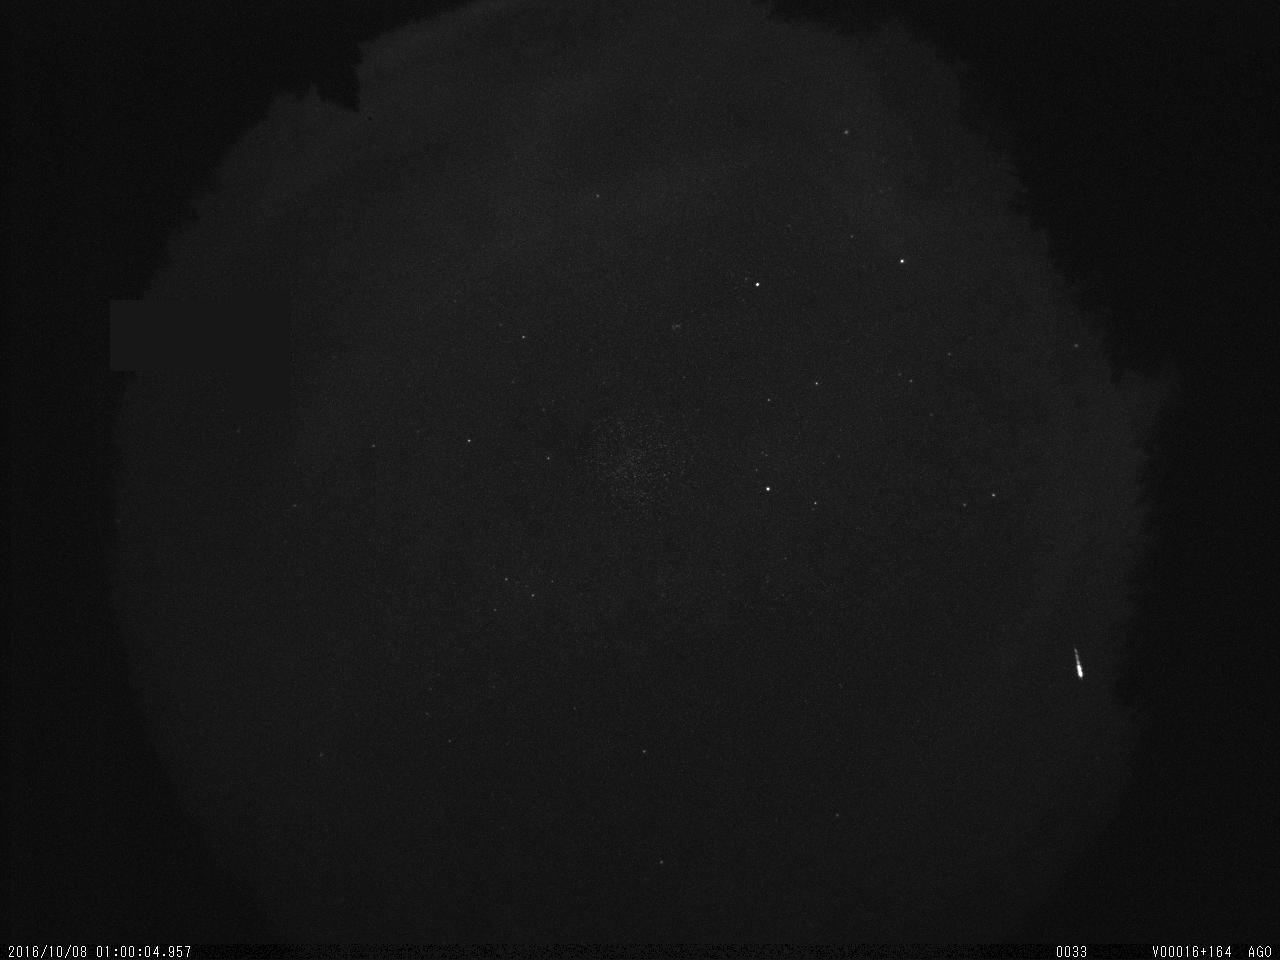meteor: (1064, 645, 1087, 681)
